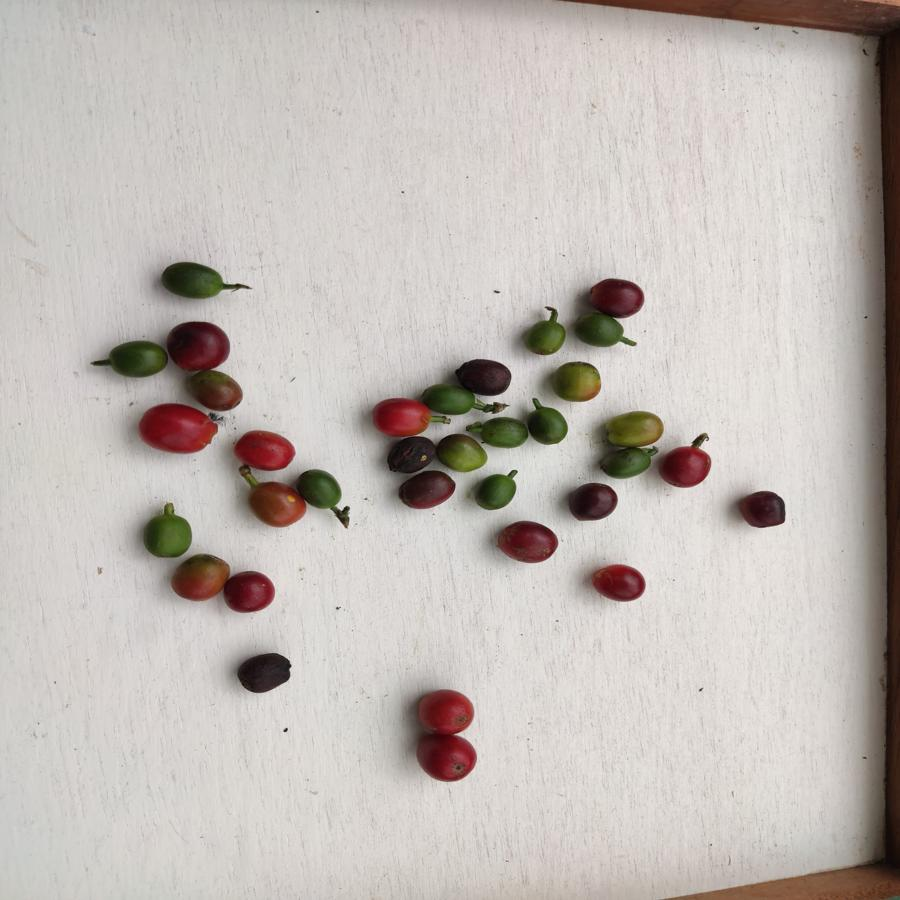Inmaduro: (157, 260, 225, 305), (106, 339, 168, 381), (141, 511, 193, 559), (595, 444, 655, 483), (301, 468, 348, 514), (572, 310, 626, 346), (524, 405, 571, 446), (471, 473, 519, 513), (476, 416, 529, 449), (423, 384, 477, 416), (521, 317, 566, 354)
Maduro: (139, 405, 218, 454), (413, 733, 478, 781), (414, 686, 475, 737), (231, 425, 296, 470), (225, 571, 277, 618), (592, 562, 646, 606), (367, 396, 427, 435), (659, 446, 713, 489)
Pinton: (171, 551, 227, 606), (248, 480, 302, 529), (185, 369, 243, 412), (552, 361, 605, 406), (600, 410, 666, 446), (437, 433, 484, 472)
Sobremaduro: (164, 320, 232, 369), (734, 485, 790, 537), (498, 518, 560, 563), (237, 647, 294, 693), (395, 469, 457, 510), (454, 357, 517, 394), (585, 276, 644, 315), (567, 480, 619, 522), (389, 436, 436, 475)
